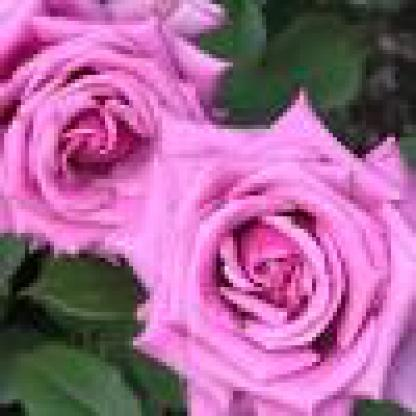Rose-Mawar: (151, 97, 405, 413)
